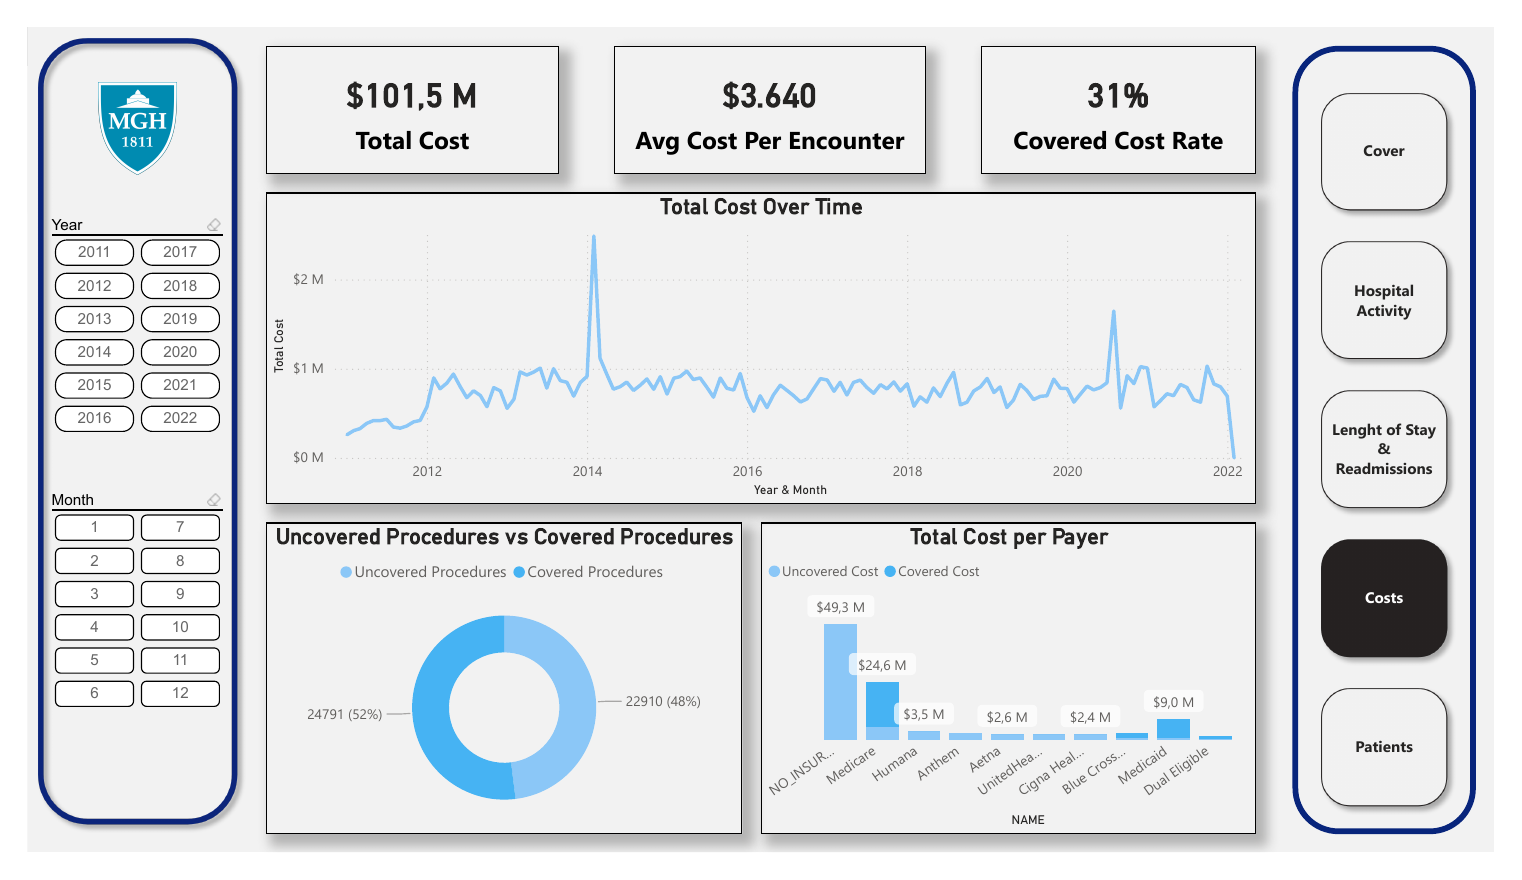

The page's visual inventory and layout, read from the dashboard file:
{"tool":"powerbi","page":{"name":"Costs","canvas":[1280,720],"ordinal":3},"visuals":[{"type":"shape","box":[0,0,192,704],"z":0},{"type":"shape","box":[1104,16,160,688],"z":1000},{"type":"image","box":[48,48,96,80],"z":2000},{"type":"pageNavigator","box":[1120,48,128,640],"z":3000},{"type":"card","fields":{"Values":["MEASURES_.TOTAL_COST"]},"box":[208,16,256,112],"z":4000},{"type":"lineChart","title":"Total Cost Over Time","fields":{"Category":["DIM_Date.YearMonth"],"Y":["MEASURES_.TOTAL_COST"]},"box":[208,144,864,272],"z":5000},{"type":"donutChart","title":"Uncovered Procedures vs Covered Procedures","fields":{"Y":["MEASURES_.Uncovered Procedures","MEASURES_.Covered Procedures"]},"box":[208,432,416,272],"z":6000},{"type":"card","fields":{"Values":["MEASURES_.AvgCostPerEncounter"]},"box":[512,16,272,112],"z":7000},{"type":"card","fields":{"Values":["MEASURES_.Covered Cost Rate"]},"box":[832,16,240,112],"z":8000},{"type":"lineStackedColumnComboChart","title":"Total Cost per Payer","fields":{"Category":["DIM_Payers.NAME"],"Y":["MEASURES_.Uncovered Cost","MEASURES_.Covered Cost"]},"box":[640,432,432,272],"z":9000},{"type":"ChicletSlicer1448559807354","fields":{"Category":["DIM_Date.Year"]},"box":[16,160,160,224],"z":10000},{"type":"ChicletSlicer1448559807354","fields":{"Category":["DIM_Date.Month"]},"box":[16,400,160,208],"z":11000}]}

Visuals, with their boxes in screenshot pixels (x1, y1, x2, y2), scaled from the page's 1280x720 canvas onto the 1522x880 screenshot:
shape: 0 0 228 860
shape: 1313 20 1503 860
image: 57 59 171 156
pageNavigator: 1332 59 1484 841
card - MEASURES_.TOTAL_COST: 247 20 552 156
"Total Cost Over Time" lineChart: 247 176 1275 508
"Uncovered Procedures vs Covered Procedures" donutChart: 247 528 742 860
card - MEASURES_.AvgCostPerEncounter: 609 20 932 156
card - MEASURES_.Covered Cost Rate: 989 20 1275 156
"Total Cost per Payer" lineStackedColumnComboChart: 761 528 1275 860
ChicletSlicer1448559807354 - DIM_Date.Year: 19 196 209 469
ChicletSlicer1448559807354 - DIM_Date.Month: 19 489 209 743
